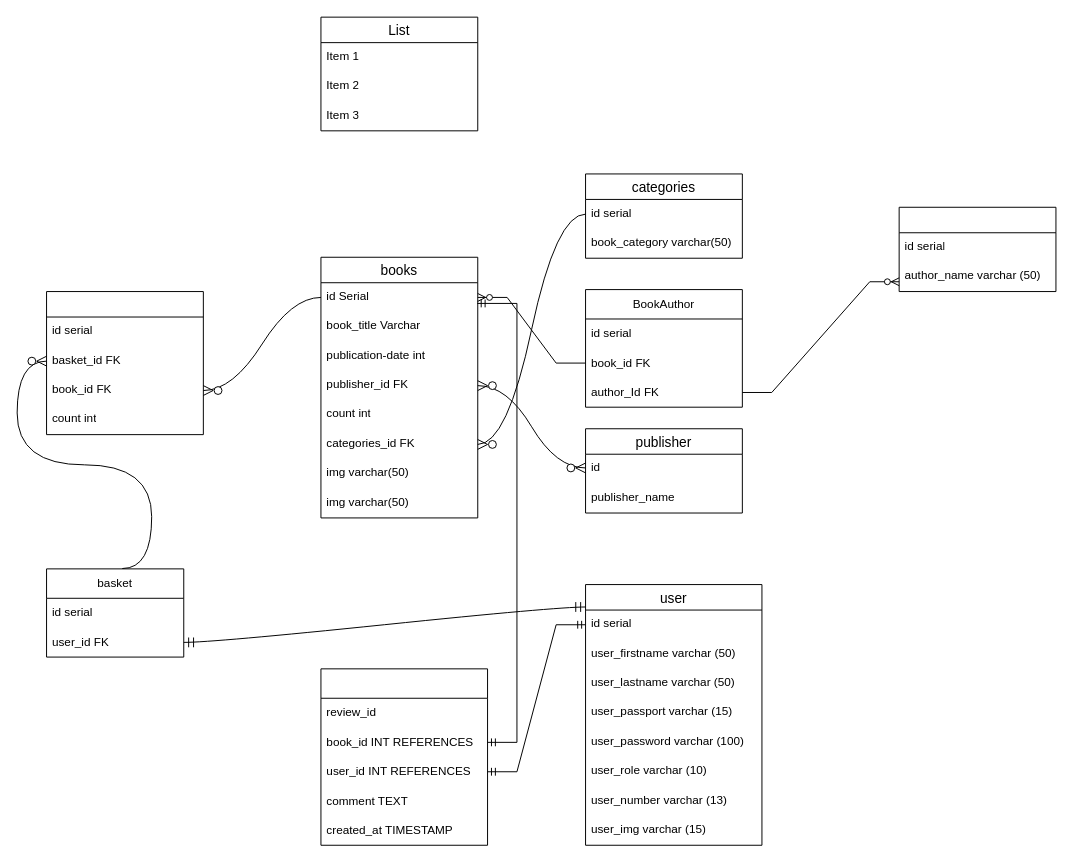
This 1073x865 diagram has some shape labels left out. Each missing label, with the box of its shape:
authors: (898, 206, 1056, 292)
basket_book: (46, 291, 203, 435)
reviews: (320, 668, 488, 845)
